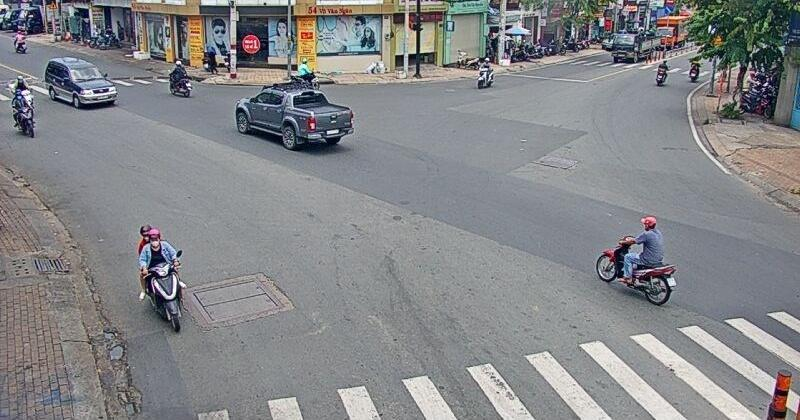xe hoi: (233, 80, 354, 151), (42, 58, 117, 107)
xe may: (597, 216, 675, 307), (140, 225, 187, 334), (170, 60, 193, 95)
